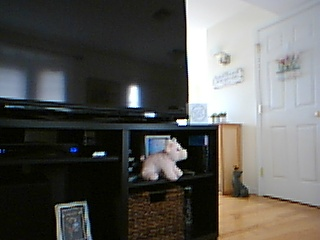piggy: (138, 136, 189, 181)
